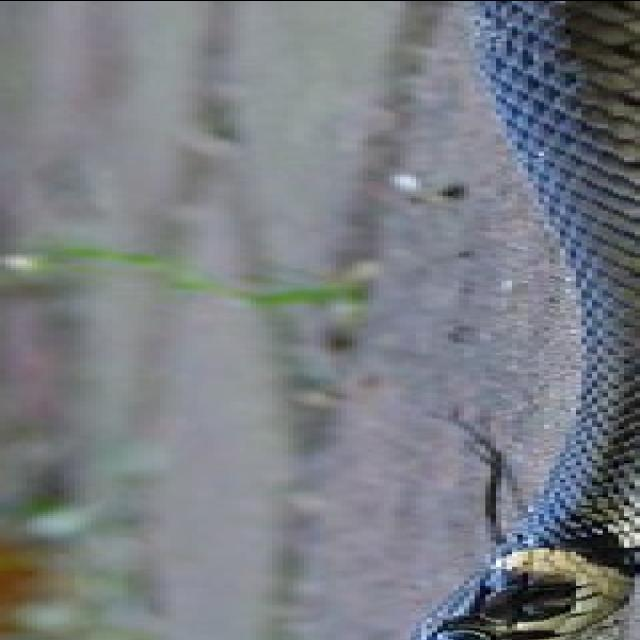snake: (390, 0, 640, 640)
